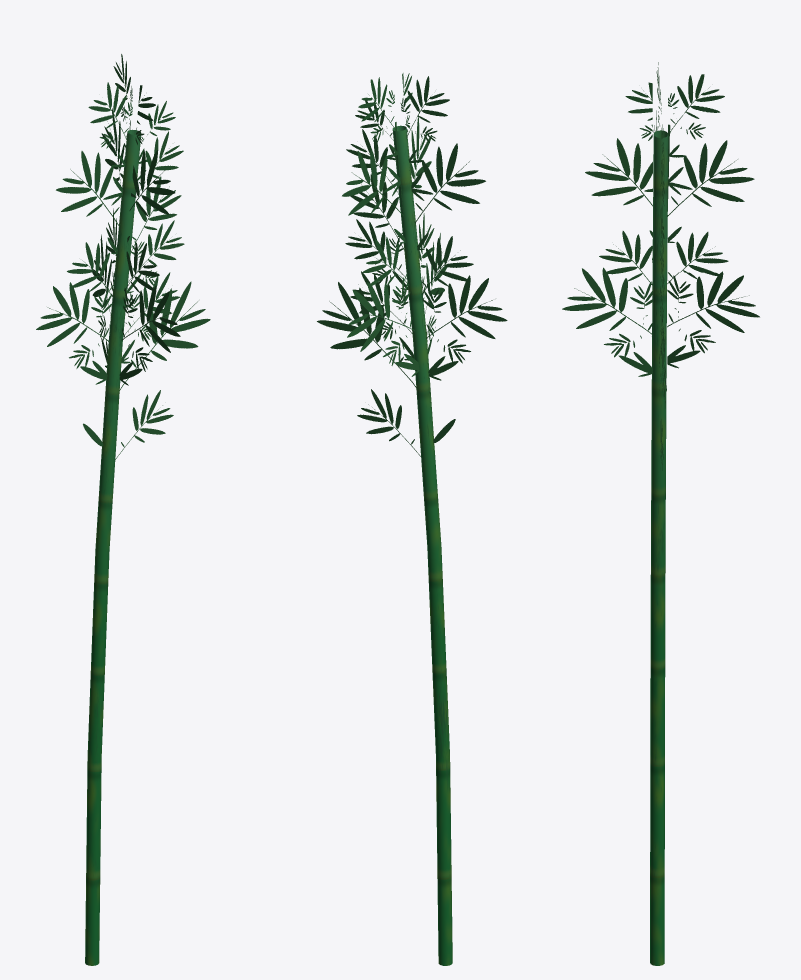
The model's file is teste lod.fbx.
The picture shows the model from 3 angles, left to right: view 1: azimuth 30°, elevation 25°; view 2: azimuth 150°, elevation 25°; view 3: azimuth 270°, elevation 25°; orthographic projection. The views are drawn at different scales.
Visible parts, largest first — view 1: bambu_LOD0; view 2: bambu_LOD0; view 3: bambu_LOD0.
Boxes of the visible parts, x1,y1,x2,y2 form: bambu_LOD0: (36,54,210,965); bambu_LOD0: (317,73,507,965); bambu_LOD0: (562,62,759,965).
Size of what is drawn, in the model's own units: 404 by 1419 by 313.
